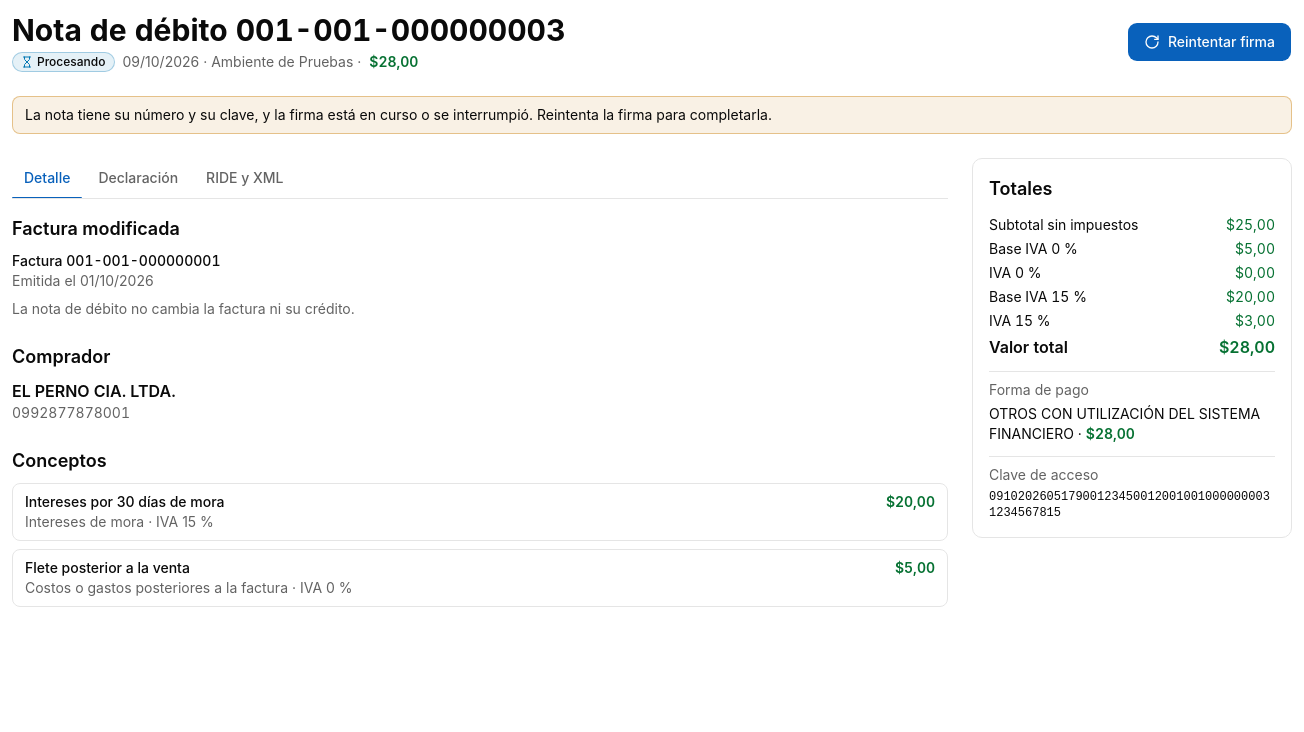
Scenario: detalle de la nota de débito › procesando: explica la firma pendiente y reintenta la firma
Expected: the text "la firma está en curso o se interrumpió" is shown, [25,106,772,123]
Expected: the element "Transmisión al SRI" is not shown
Click the button "Reintentar firma". click: (1209, 42)
box: [1127,22,1292,62]
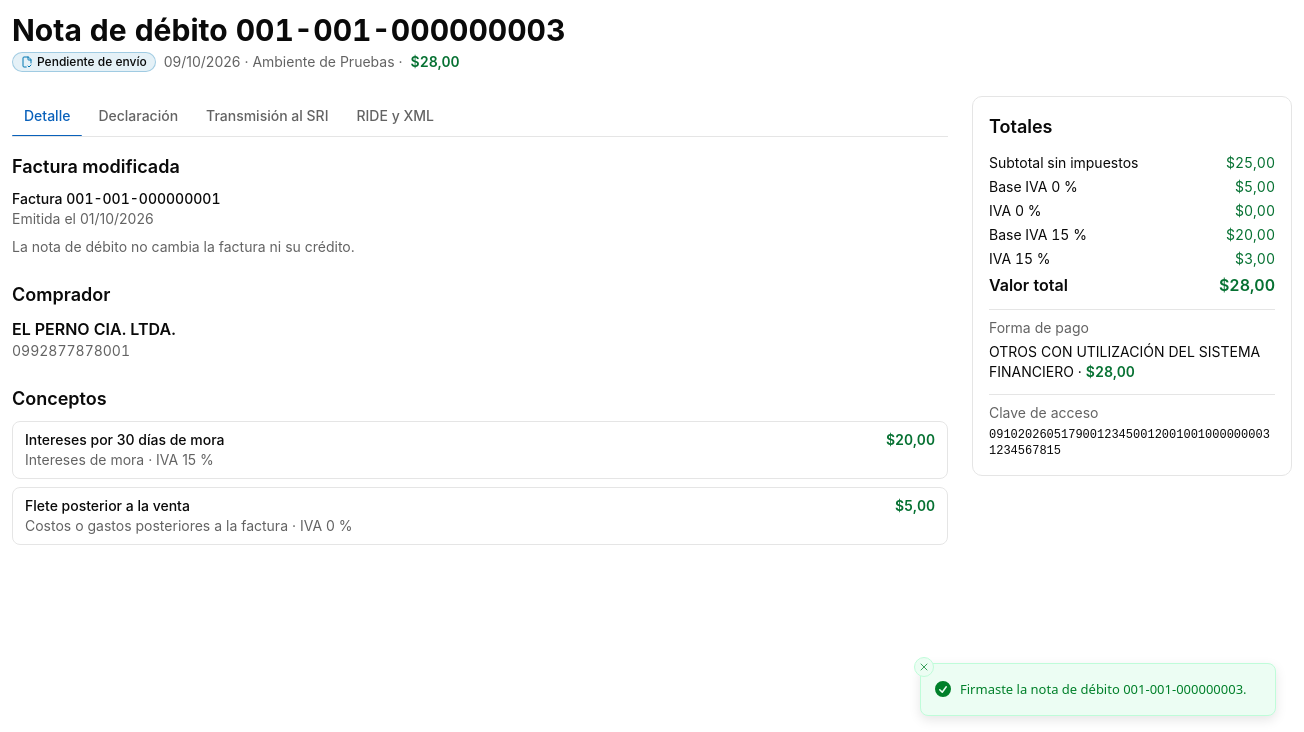
Expected: the text "Firmaste la nota de débito 001-001-000000003." is shown, [960,680,1247,699]
Click the tab "Transmisión al SRI". click: (267, 116)
box: [194,96,340,136]
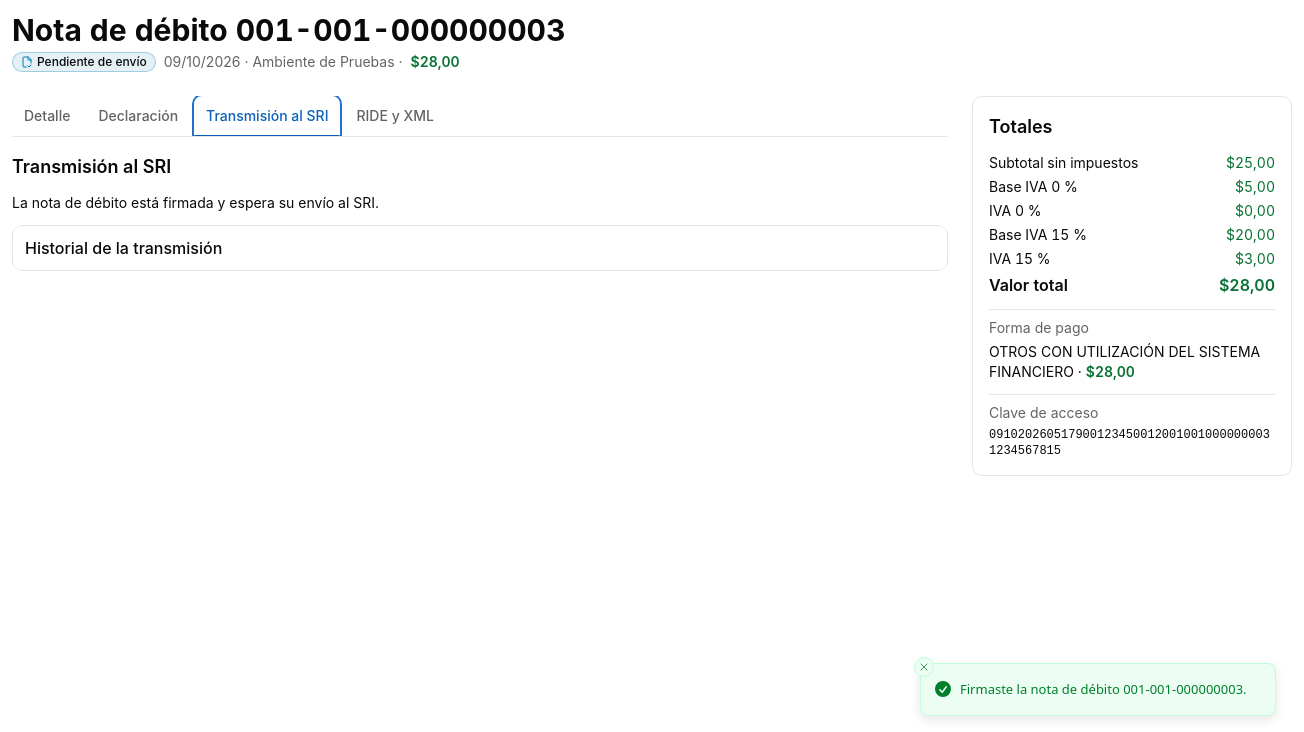
Expected: the text "La nota de débito está firmada y espera su envío al SRI." is shown, [12,194,379,211]
